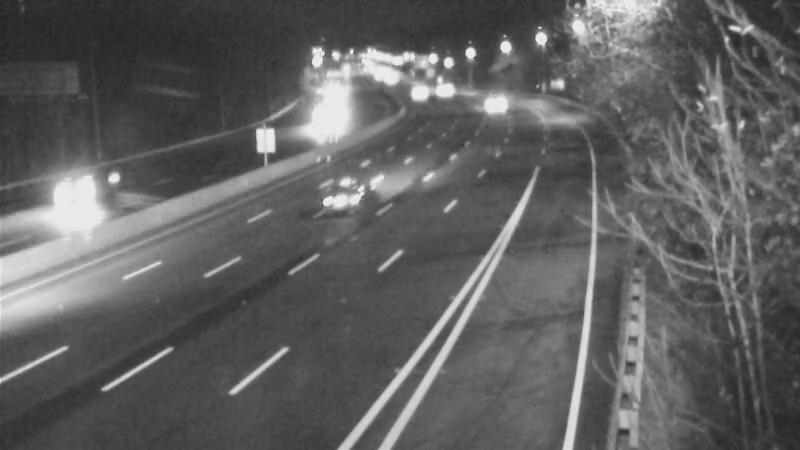vehicle: (308, 150, 388, 230), (40, 153, 120, 233), (384, 65, 434, 115), (415, 63, 465, 113), (463, 79, 513, 129), (302, 95, 352, 145)
